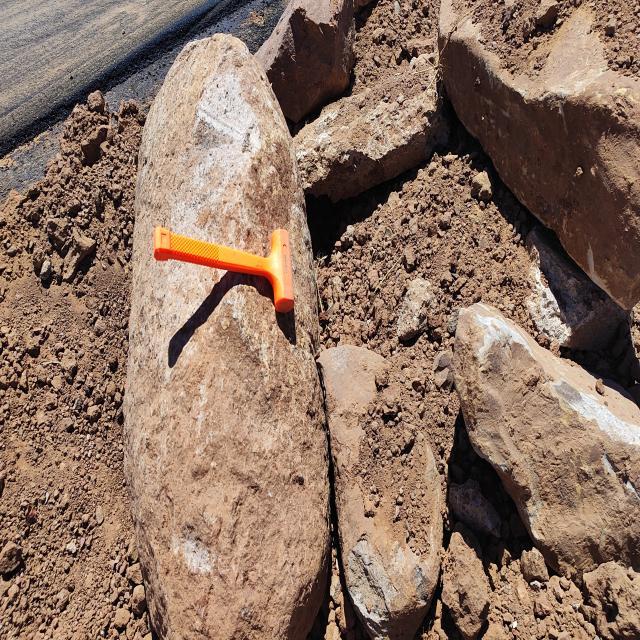Orange_hammer: (152, 223, 295, 315)
